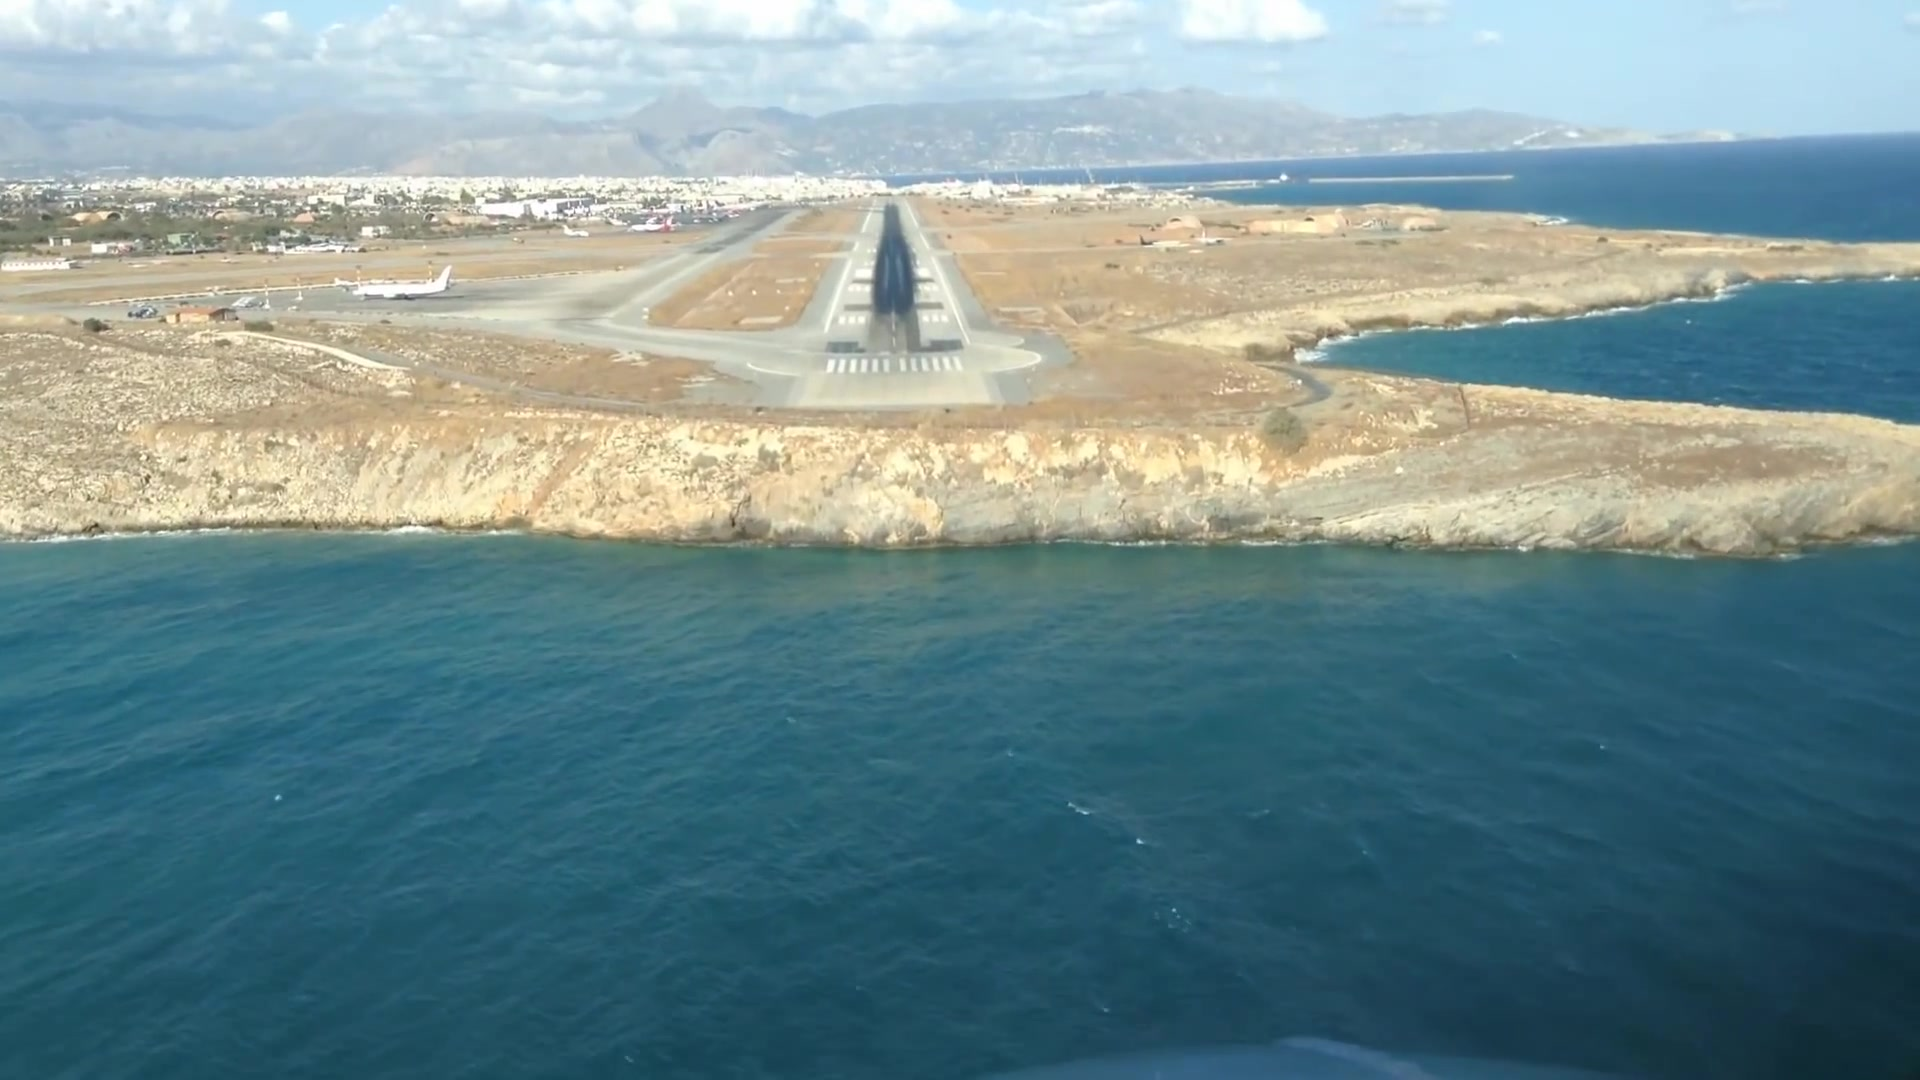entrance: (825, 356, 961, 375)
runway: (781, 200, 1000, 406)
